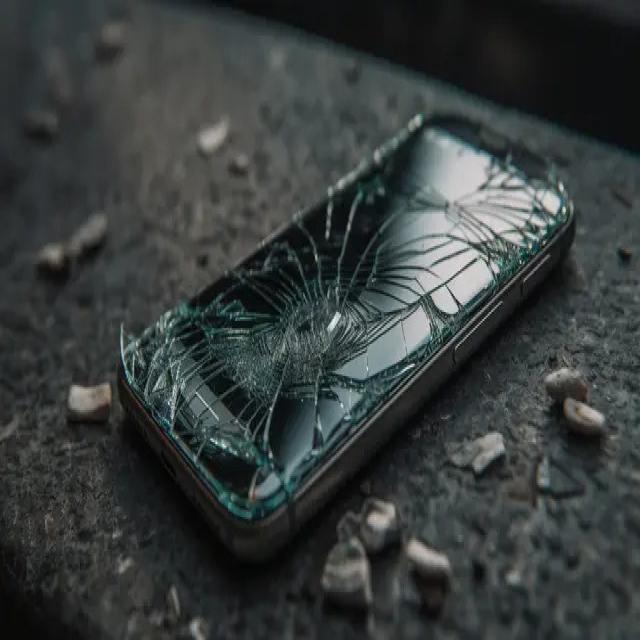Crack: (114, 230, 542, 509), (294, 94, 618, 272), (93, 304, 395, 490)
